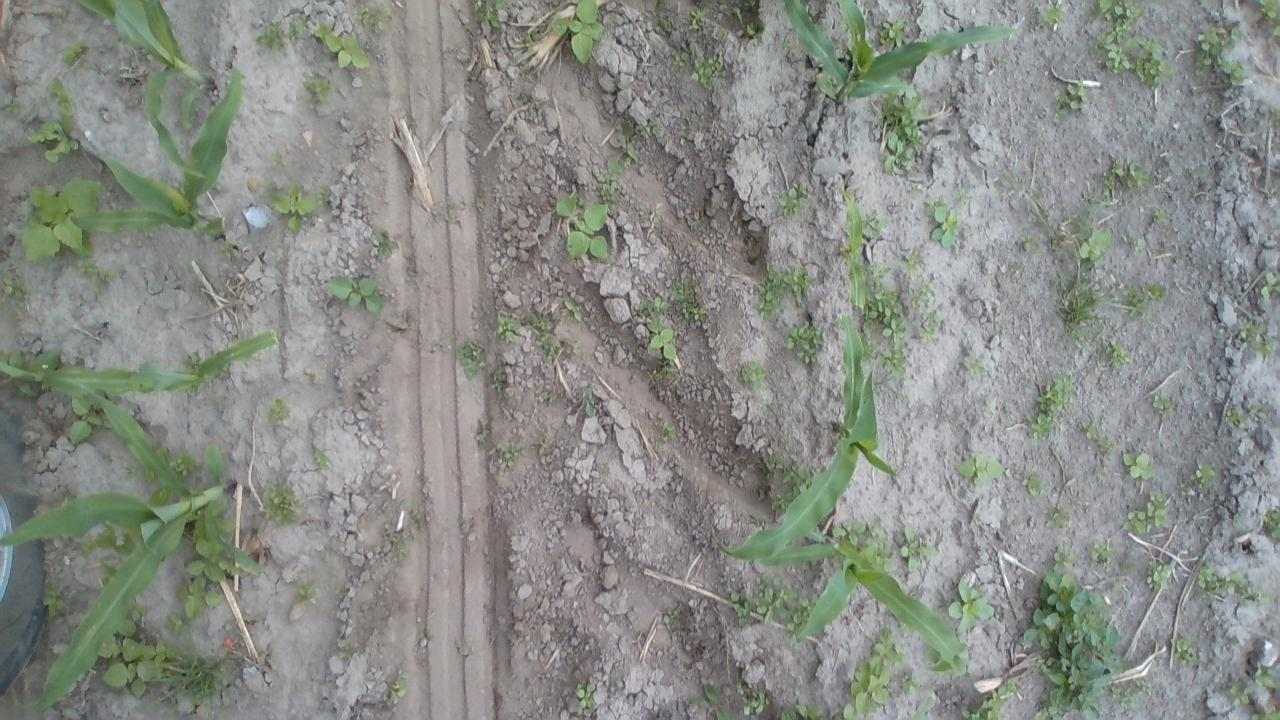Maize: (1, 376, 264, 708), (718, 315, 902, 562), (68, 67, 243, 237), (762, 534, 963, 671), (76, 0, 216, 179), (783, 0, 1018, 104), (0, 326, 278, 404), (838, 192, 868, 309)
Weeds: (1022, 571, 1123, 720), (22, 178, 100, 260), (840, 630, 901, 720), (1096, 18, 1179, 84), (1030, 187, 1114, 250), (101, 638, 180, 698), (182, 536, 236, 618), (730, 575, 809, 631), (874, 90, 924, 176), (1058, 264, 1110, 346), (555, 191, 612, 261), (552, 0, 602, 64), (831, 518, 896, 565), (604, 115, 639, 202), (1030, 369, 1072, 441), (864, 288, 906, 352), (1194, 22, 1244, 75), (167, 658, 226, 702), (314, 22, 368, 69), (946, 580, 994, 632), (761, 266, 810, 316), (268, 182, 316, 233), (964, 676, 1020, 719), (30, 113, 78, 160), (1124, 490, 1170, 536), (328, 275, 382, 312), (784, 320, 828, 365), (1050, 76, 1090, 123), (899, 525, 938, 572), (0, 350, 39, 396), (1102, 155, 1148, 192), (70, 395, 102, 445), (1076, 226, 1118, 264), (1197, 566, 1250, 596), (262, 485, 302, 523), (957, 455, 1006, 486), (646, 318, 678, 364), (1126, 284, 1169, 318), (689, 685, 727, 720), (78, 259, 117, 293), (527, 307, 552, 360), (932, 204, 962, 246), (779, 181, 811, 219), (1240, 320, 1272, 354), (1080, 418, 1114, 450), (737, 682, 773, 712), (1122, 452, 1160, 480), (1094, 0, 1144, 21), (456, 336, 481, 376), (1253, 1, 1280, 38), (911, 274, 940, 308), (1219, 61, 1250, 92), (4, 272, 32, 304), (1145, 560, 1171, 594), (770, 702, 819, 720), (784, 463, 812, 494), (920, 310, 944, 346), (306, 78, 332, 111), (878, 21, 908, 49), (570, 389, 598, 419), (1170, 635, 1198, 665), (476, 3, 508, 29), (48, 77, 73, 110), (738, 360, 766, 389), (1034, 1, 1065, 27), (1189, 459, 1220, 485), (882, 344, 907, 376), (691, 57, 720, 84), (1251, 662, 1280, 688), (904, 247, 926, 281), (385, 670, 408, 702), (1050, 542, 1077, 569), (498, 440, 524, 468), (42, 587, 68, 614), (1023, 469, 1051, 494), (758, 452, 785, 477), (64, 42, 92, 66), (1230, 680, 1254, 708), (1111, 686, 1137, 711), (359, 6, 386, 30), (913, 692, 936, 720), (678, 300, 707, 322), (868, 262, 892, 288), (1044, 504, 1070, 528), (377, 231, 398, 260), (496, 316, 516, 346), (564, 300, 588, 324), (959, 171, 975, 207), (642, 118, 664, 144), (1088, 543, 1118, 562), (489, 373, 516, 394), (1263, 503, 1280, 536), (576, 680, 596, 708), (260, 25, 284, 48), (636, 297, 670, 313), (648, 367, 678, 385), (270, 397, 290, 424), (287, 14, 305, 44), (960, 355, 986, 375), (1150, 390, 1170, 416), (177, 454, 197, 479), (1263, 270, 1280, 299), (1104, 346, 1128, 366), (690, 7, 709, 31), (771, 490, 792, 510), (674, 282, 699, 298), (222, 246, 240, 268), (863, 214, 883, 233), (168, 613, 186, 634), (296, 579, 314, 600), (901, 670, 919, 690), (1253, 591, 1274, 608), (5, 98, 24, 116), (312, 448, 330, 467), (538, 437, 558, 454), (740, 22, 761, 38), (393, 536, 411, 554), (659, 420, 676, 438), (672, 47, 686, 68), (1138, 680, 1158, 694), (1250, 711, 1280, 720), (1151, 208, 1170, 222), (1226, 408, 1240, 426), (270, 152, 288, 166), (1013, 260, 1028, 276), (1020, 232, 1036, 247), (1131, 237, 1147, 250), (523, 31, 535, 46), (656, 15, 666, 31), (996, 56, 1009, 65)
